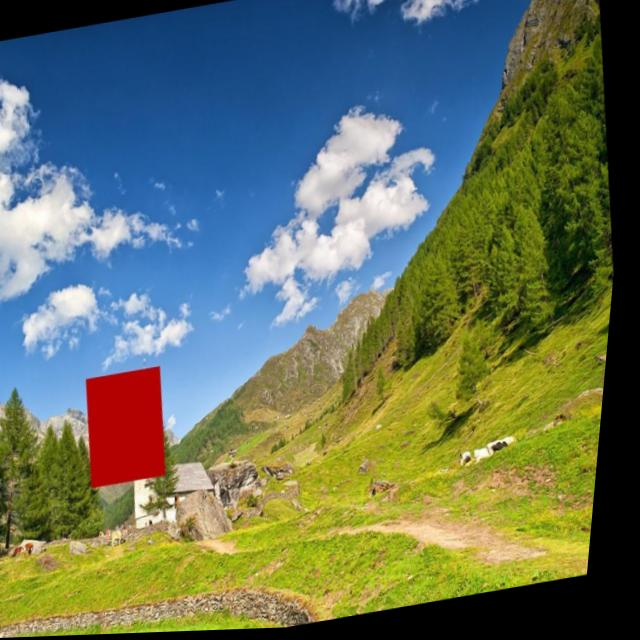RedSquare: (79, 357, 192, 500)
